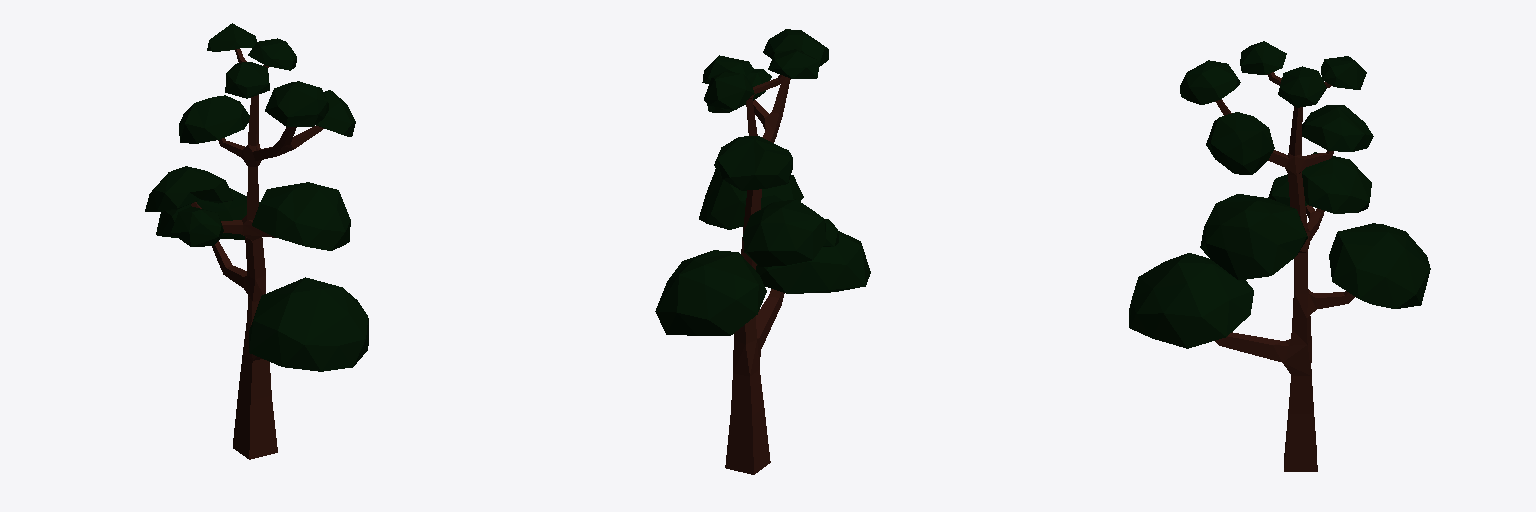
Rendered from tree_lvl_19.obj.
3 renders of one model, left to right at view 1: azimuth 30°, elevation 25°; view 2: azimuth 150°, elevation 25°; view 3: azimuth 270°, elevation 25°, orthographic.
Bounding box in the file's own units: 4.65 × 11.55 × 7.72.